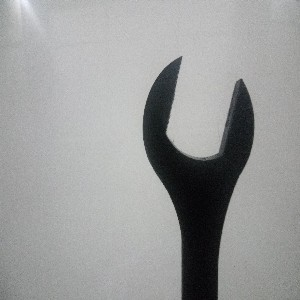spanner: (141, 53, 255, 300)
